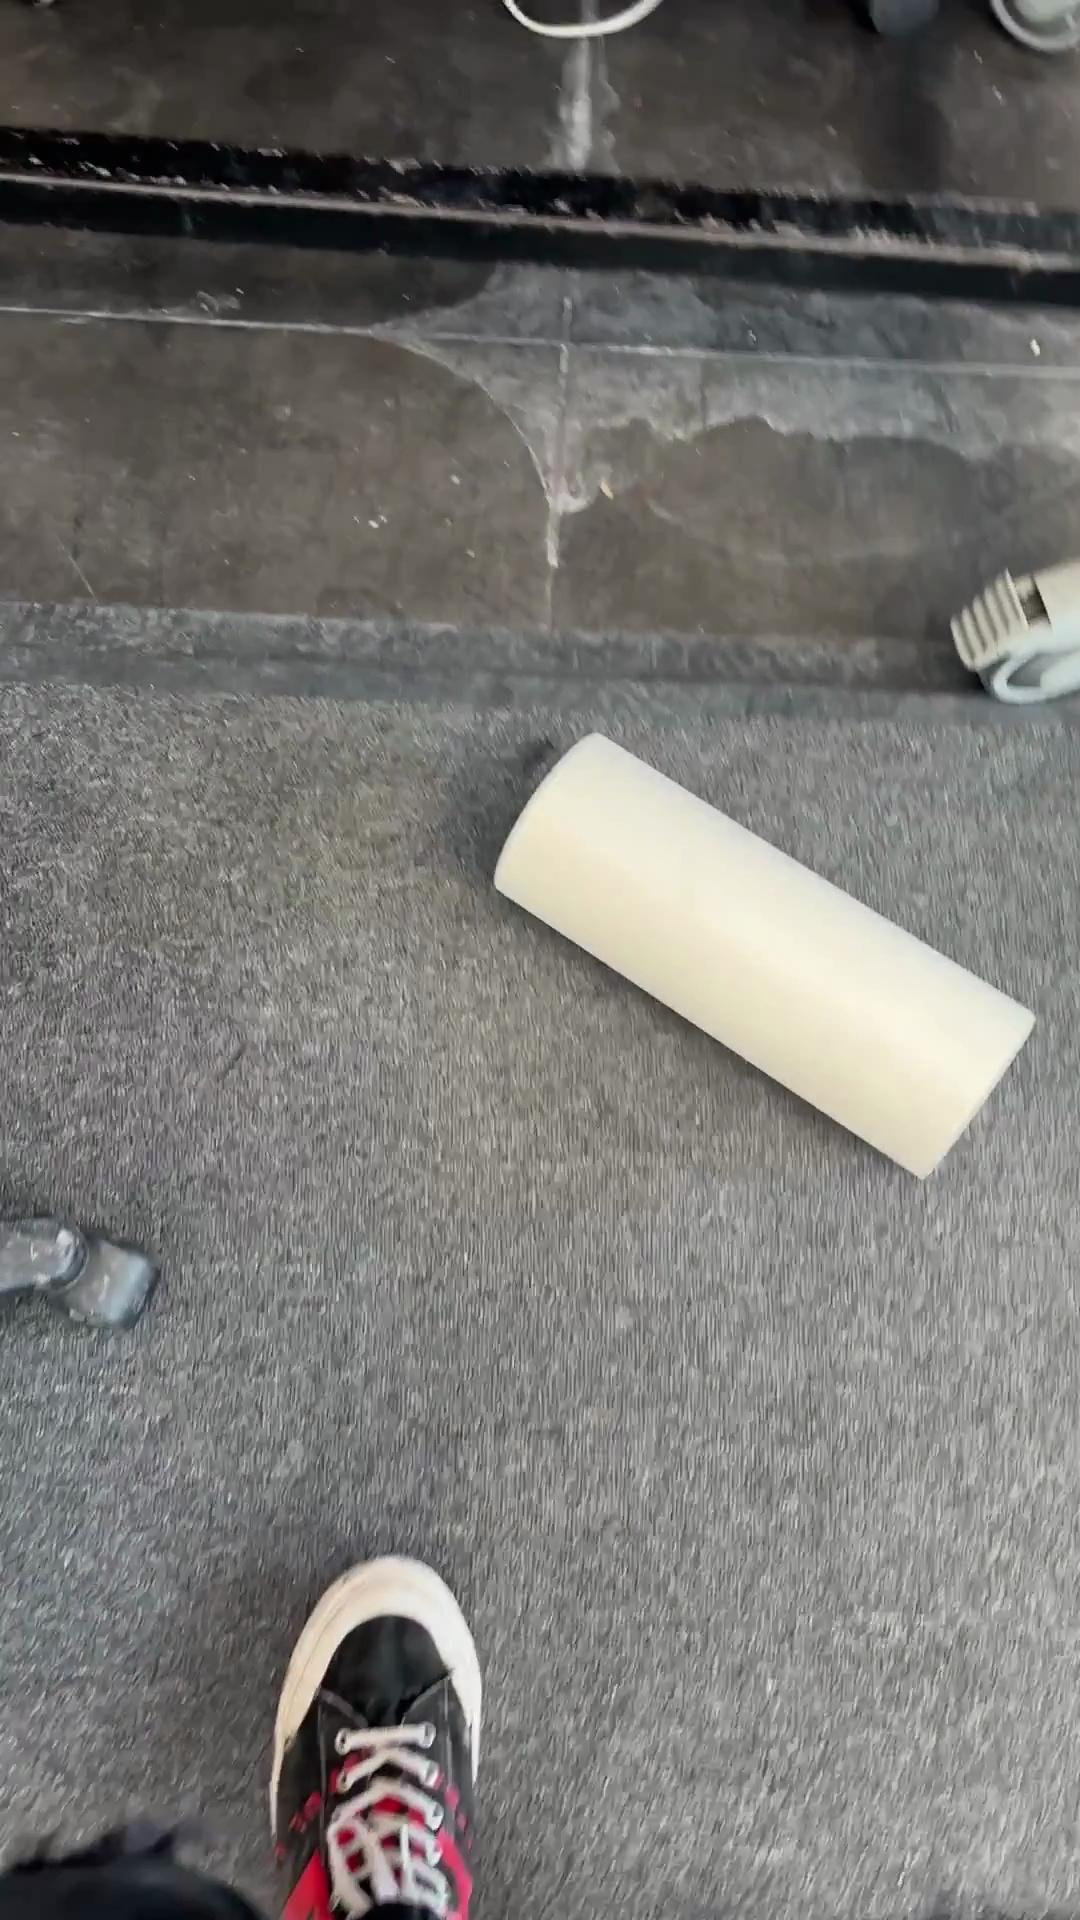CORAL: (491, 728, 1036, 1182)
